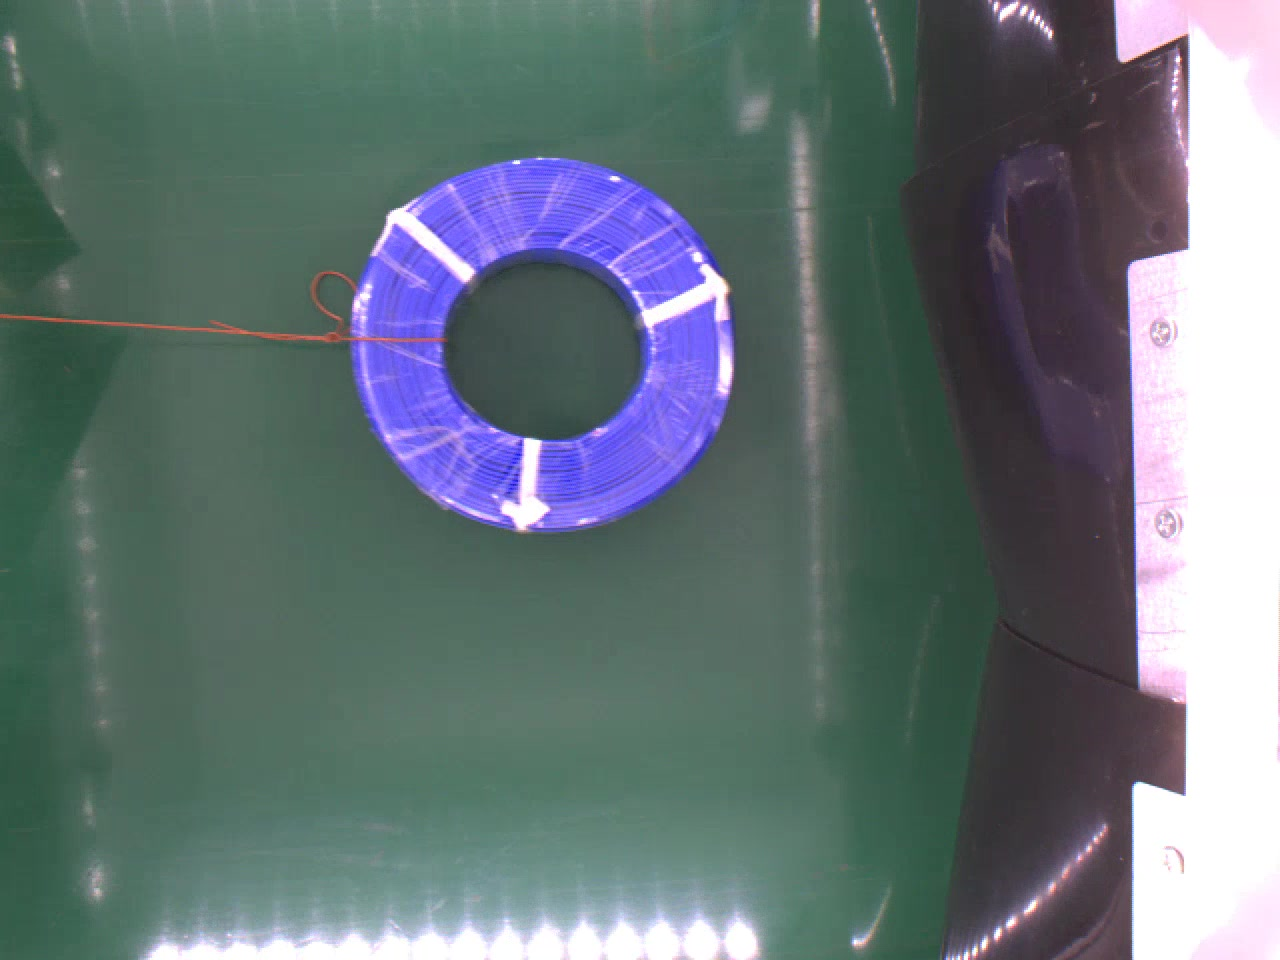blue: (347, 150, 738, 528)
